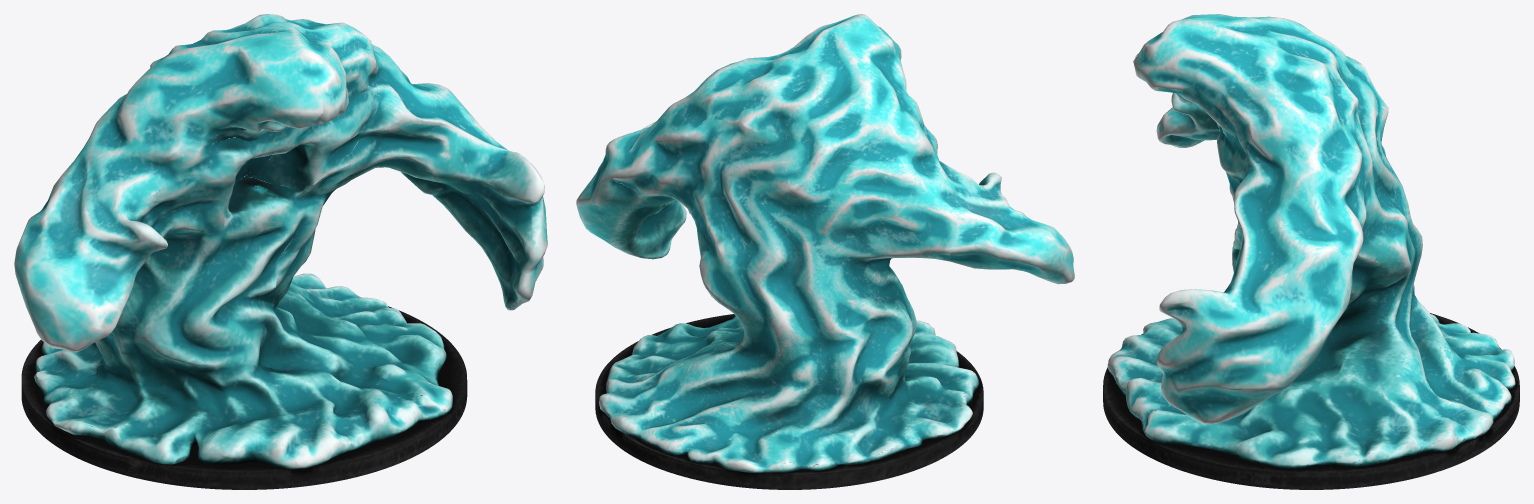
File: MZ4250 - Water Elemental.glb
The picture shows the model from 3 angles, left to right: view 1: azimuth 30°, elevation 25°; view 2: azimuth 150°, elevation 25°; view 3: azimuth 270°, elevation 25°; orthographic projection. The views are drawn at different scales.
Parts seen in each view (by area): view 1: Water_Elemental_Updated.001, Water_Elemental_Updated.003; view 2: Water_Elemental_Updated.001, Water_Elemental_Updated.003; view 3: Water_Elemental_Updated.001, Water_Elemental_Updated.003.
Boxes of the visible parts, bbox=[...] form: Water_Elemental_Updated.001: bbox=[14, 14, 547, 469]; Water_Elemental_Updated.003: bbox=[21, 306, 467, 489]; Water_Elemental_Updated.001: bbox=[576, 14, 1074, 472]; Water_Elemental_Updated.003: bbox=[595, 314, 983, 489]; Water_Elemental_Updated.001: bbox=[1107, 14, 1515, 468]; Water_Elemental_Updated.003: bbox=[1103, 313, 1519, 489].
Bounding box in the file's own units: 3.99 × 2.93 × 2.94.
Materials: 1 (1 with a texture image).
